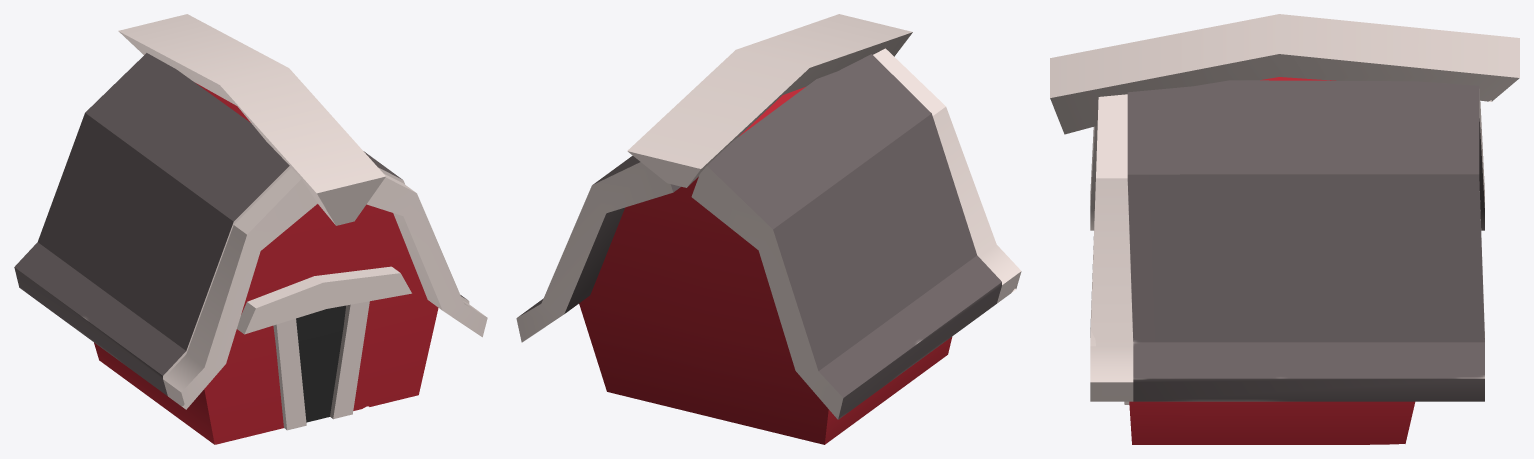
File: barn2.fbx
3 renders of one model, left to right at view 1: azimuth 30°, elevation 25°; view 2: azimuth 150°, elevation 25°; view 3: azimuth 270°, elevation 25°, orthographic. The views are drawn at different scales.
Parts seen in each view (by area): view 1: The_barn2; view 2: The_barn2; view 3: The_barn2.
Boxes of the visible parts, left/top/right/bottom form: The_barn2: left=14, top=14, right=487, bottom=444; The_barn2: left=516, top=14, right=1021, bottom=444; The_barn2: left=1050, top=14, right=1519, bottom=444.
Size of the model in its own units: 67.98 by 63.16 by 76.37.
